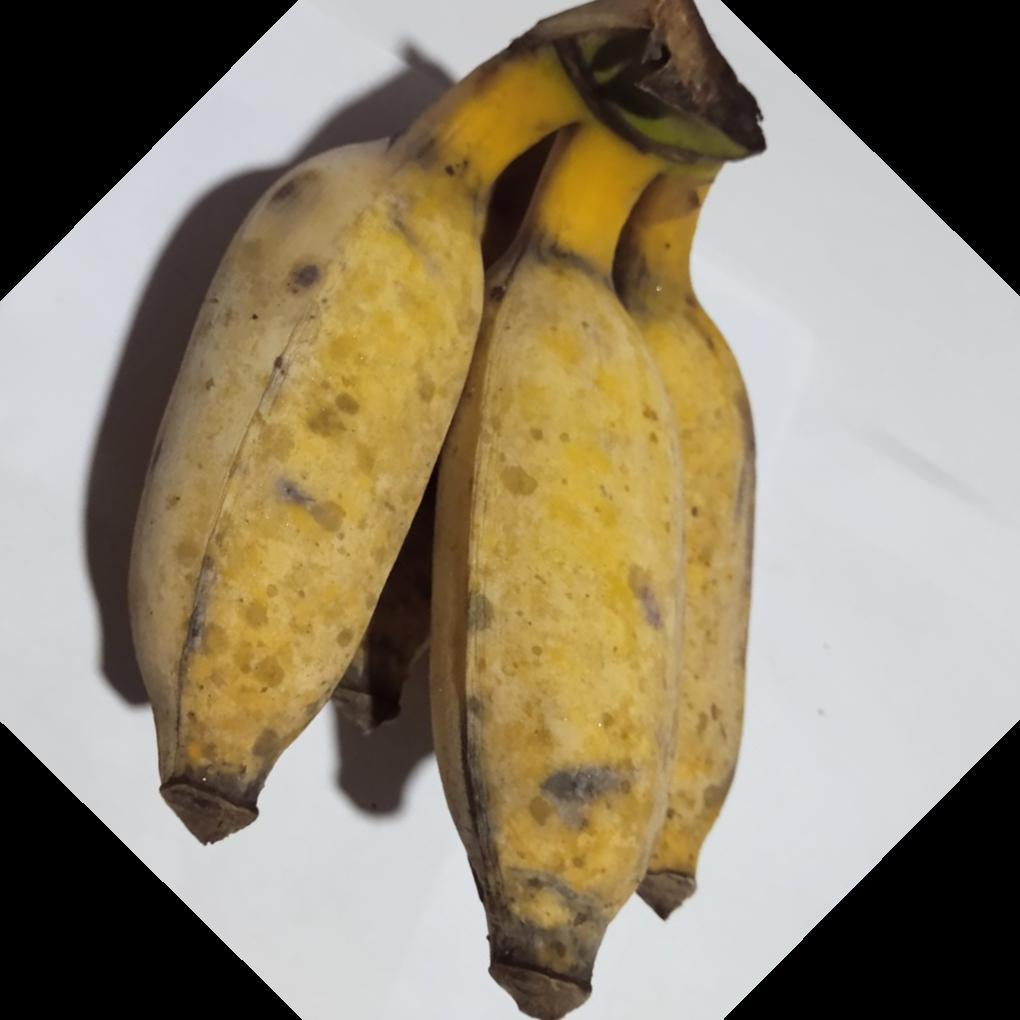Banana Ripe: (113, 15, 794, 1020)
